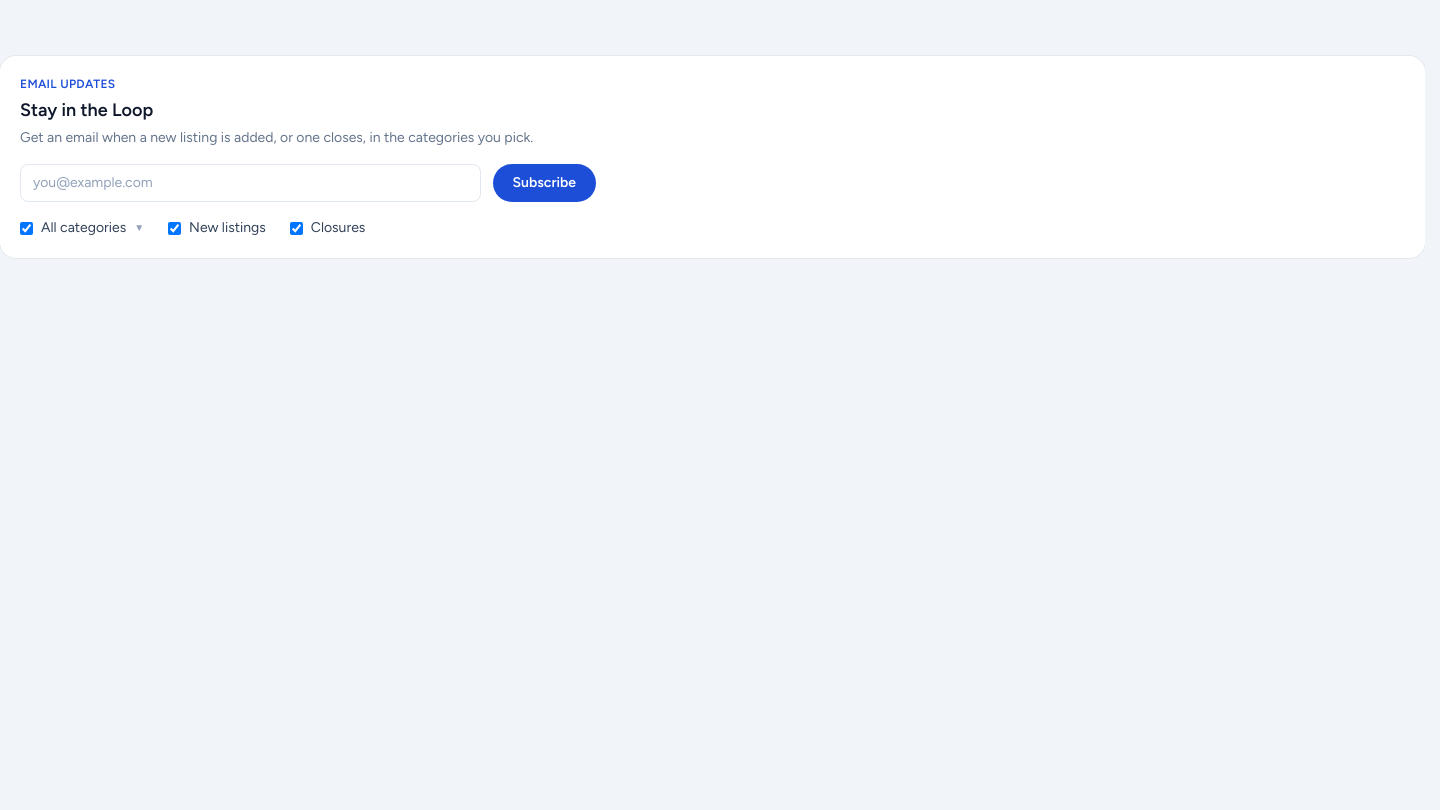
Test: SubscribeSection › checking "All categories" inside the picker clears any specific picks
The width and height of the screenshot is (1440, 810).
Step 1. Click the button named "All categories" → (82, 228), box x1=20 y1=218 x2=144 y2=238
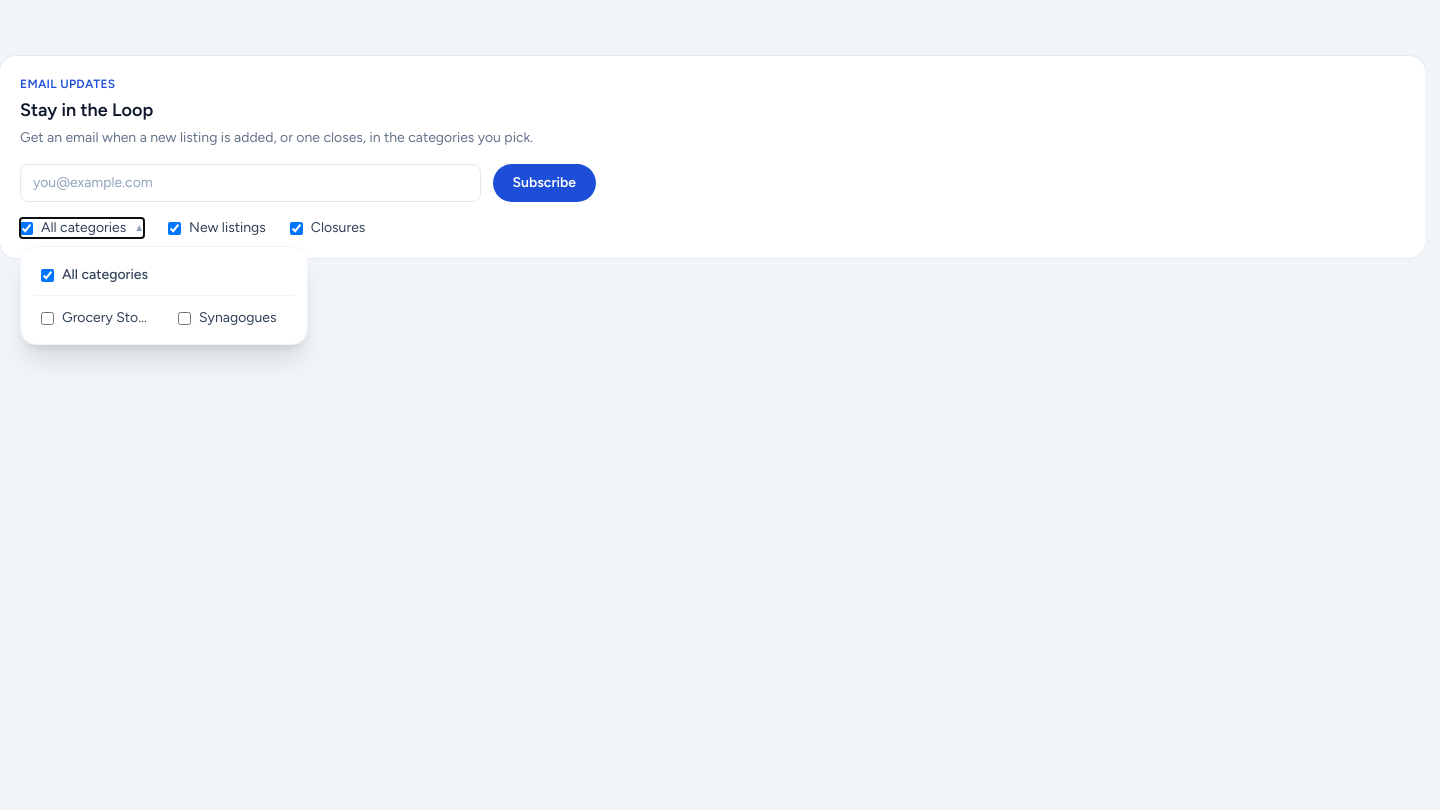
Step 2. Click the text "Grocery Stores" → (106, 318), box x1=62 y1=308 x2=150 y2=328
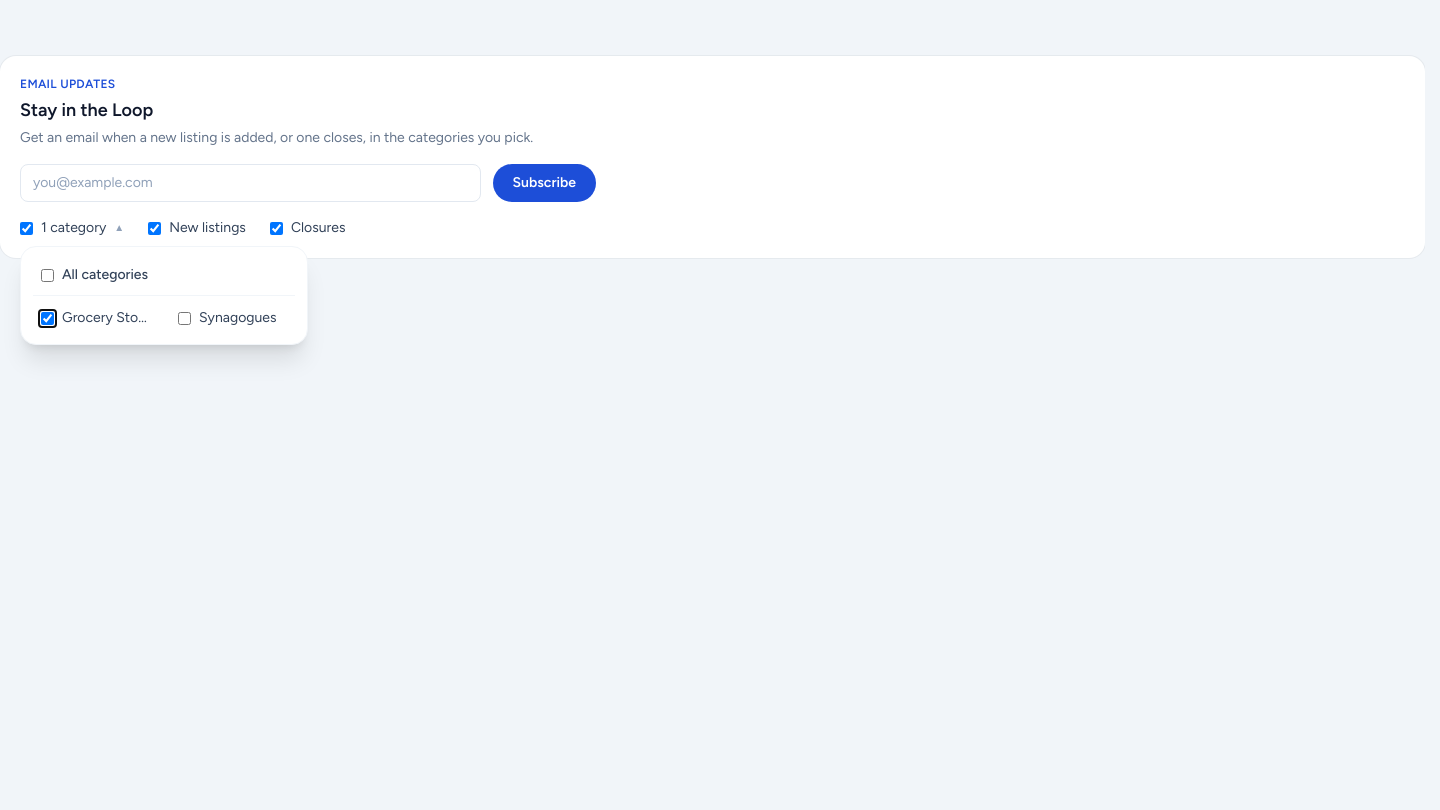
Step 3. Click the checkbox labelled "All categories" → (48, 275), box x1=41 y1=268 x2=54 y2=282
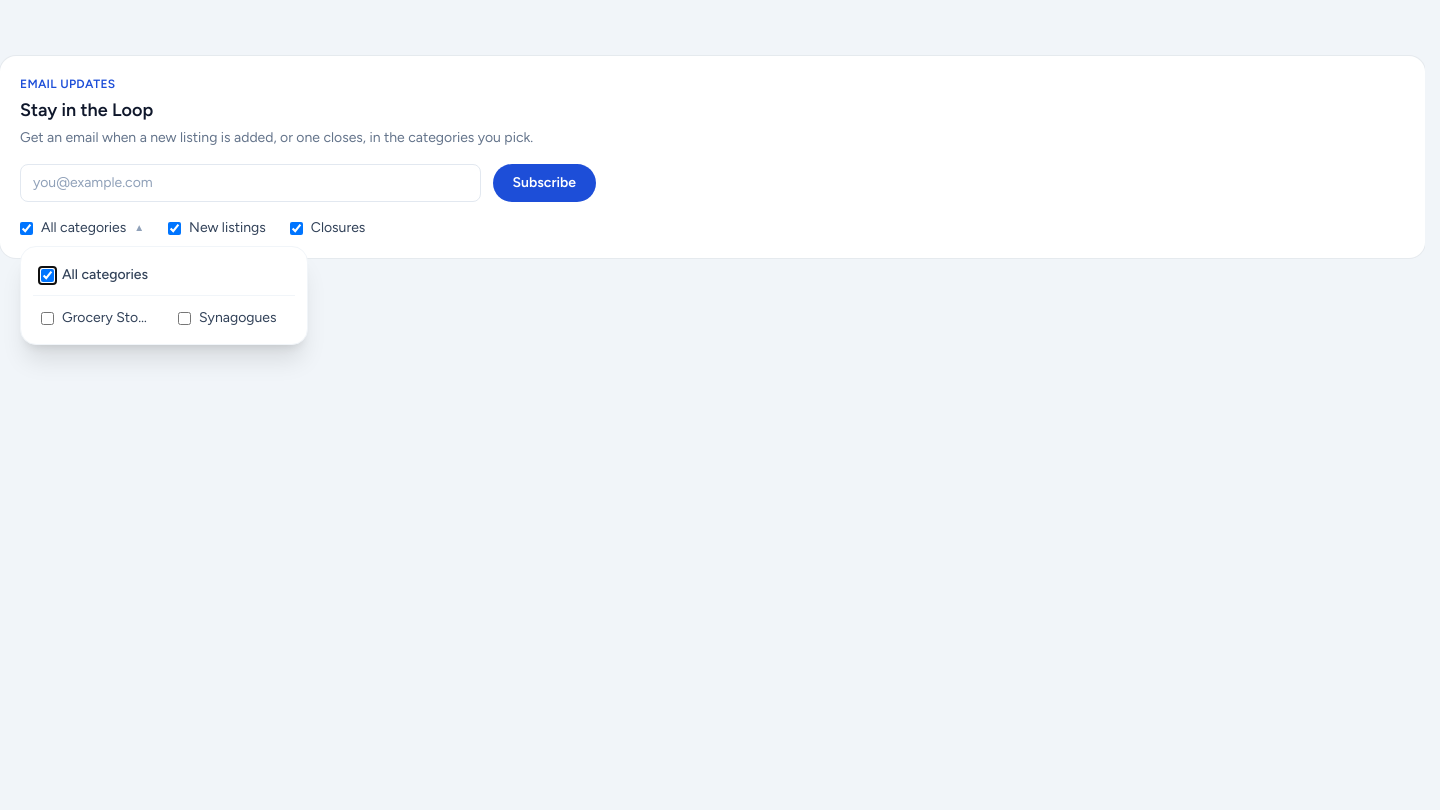
Now the button named "All categories" is shown, box x1=20 y1=218 x2=144 y2=238
